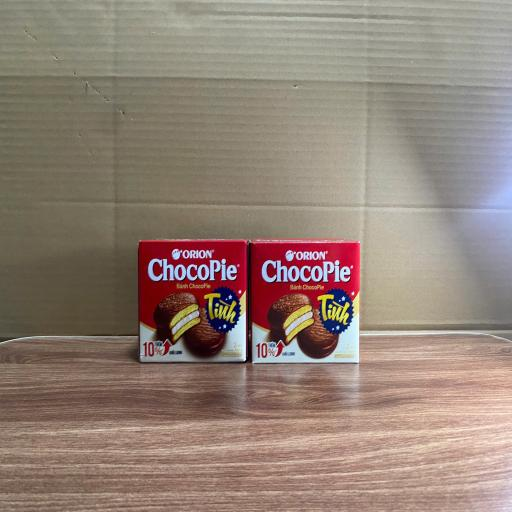chocopie: (250, 241, 360, 362), (138, 241, 246, 362)
